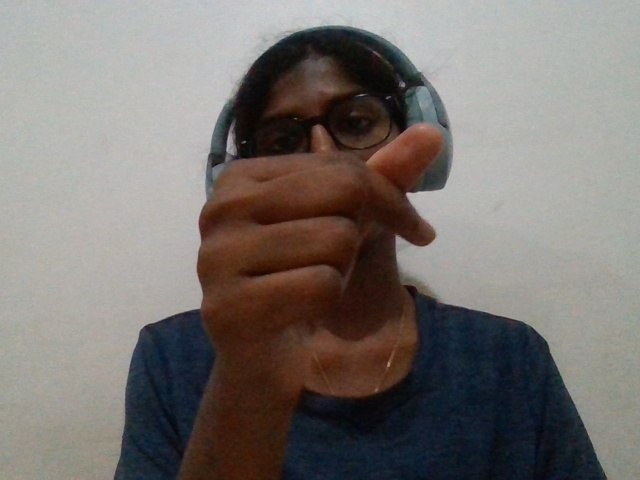G: (153, 93, 504, 451)
